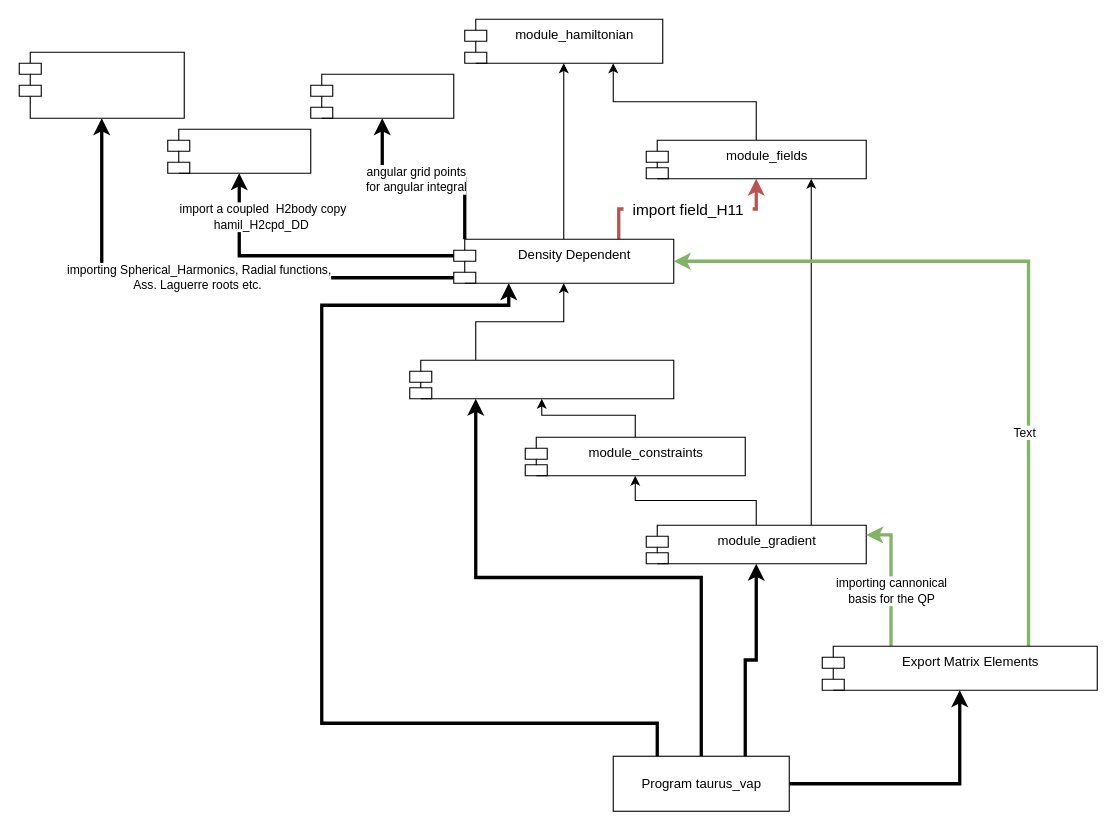
Image size: 1117x831. Some labels were removed from this diagram. Each missing label, with the centre of its shape:
module_basis module_constants module_mathmethods: the point at 101,84
module_hamltonian: the point at 239,150
module_lebedev: the point at 382,95
module_projection: the point at 541,379
